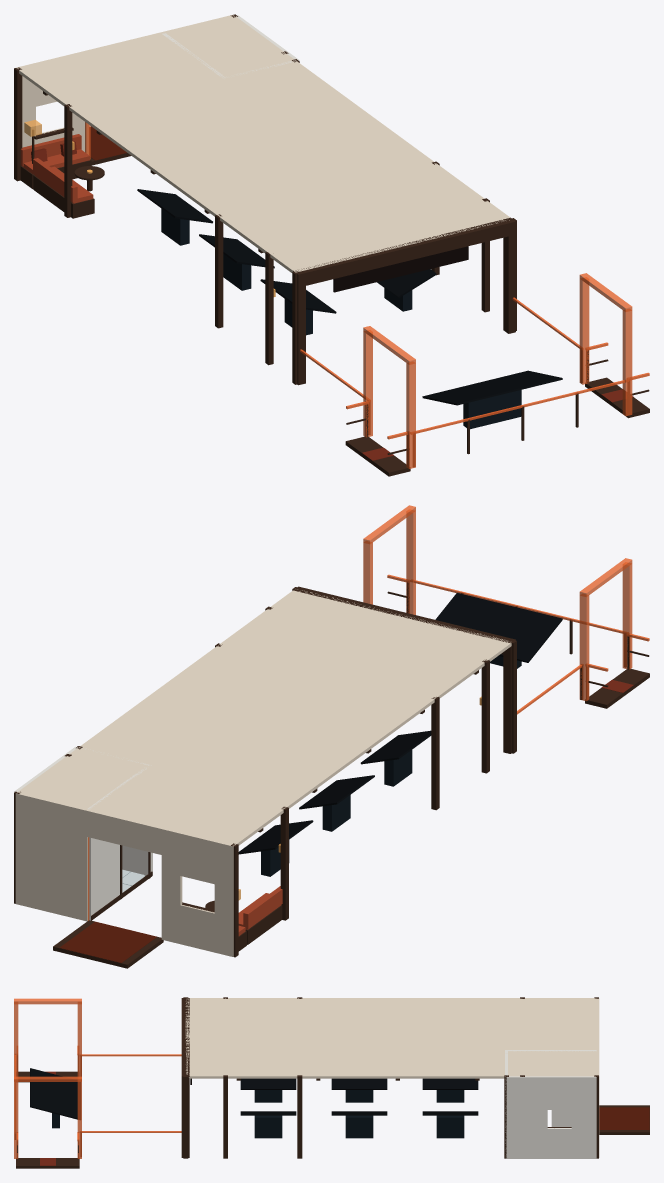
File: skyfleet_bake_01.glb
3 views of the same model, one above another, from view 1: azimuth 30°, elevation 25°; view 2: azimuth 150°, elevation 25°; view 3: azimuth 270°, elevation 25° (orthographic). The views are drawn at different scales.
Visible parts, largest first — view 1: baked; view 2: baked; view 3: baked.
Part boxes in pixels (x1,y1,x2,y2): baked: [14, 14, 649, 476]; baked: [14, 505, 649, 968]; baked: [14, 997, 649, 1168].
Size of the model in its own units: 8.4 by 3.52 by 23.99.
